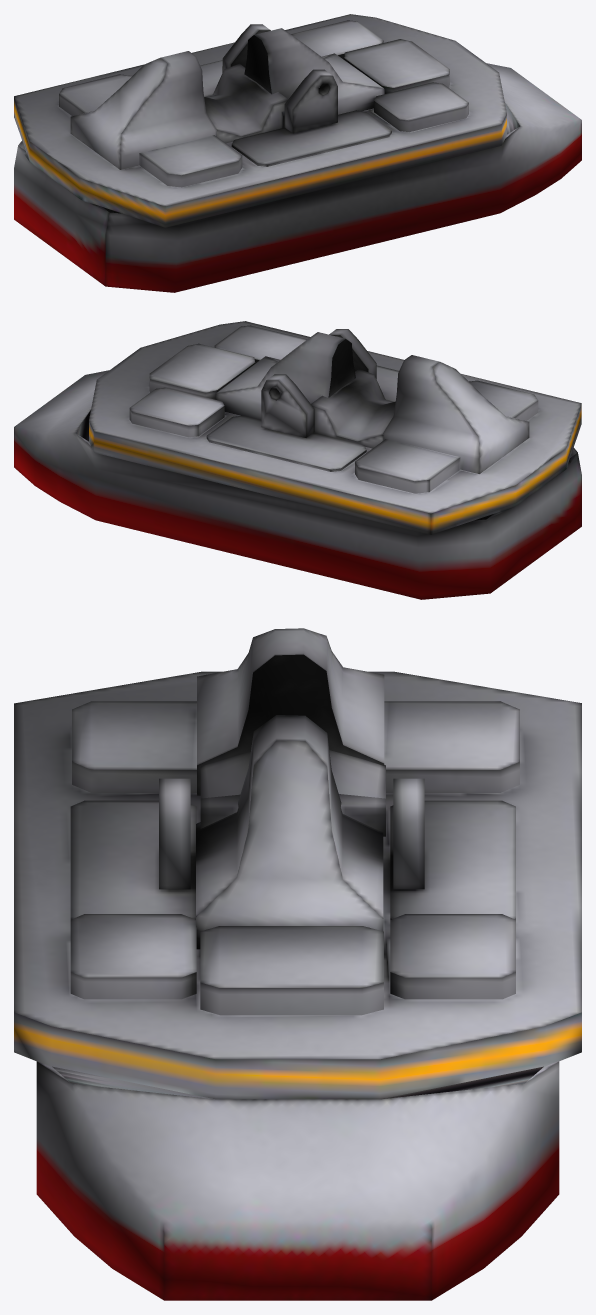
The model's file is l_foot.dae.
The picture shows the model from 3 angles, top to bottom: view 1: azimuth 30°, elevation 25°; view 2: azimuth 150°, elevation 25°; view 3: azimuth 270°, elevation 25°; orthographic projection. The views are drawn at different scales.
Visible parts, largest first — view 1: l_foot; view 2: l_foot; view 3: l_foot.
Part boxes in pixels (x1,y1,x2,y2): l_foot: (14,14,581,292); l_foot: (14,321,581,599); l_foot: (14,628,581,1300).
Size of the model in its own units: 0.2629 by 0.1398 by 0.0866.
